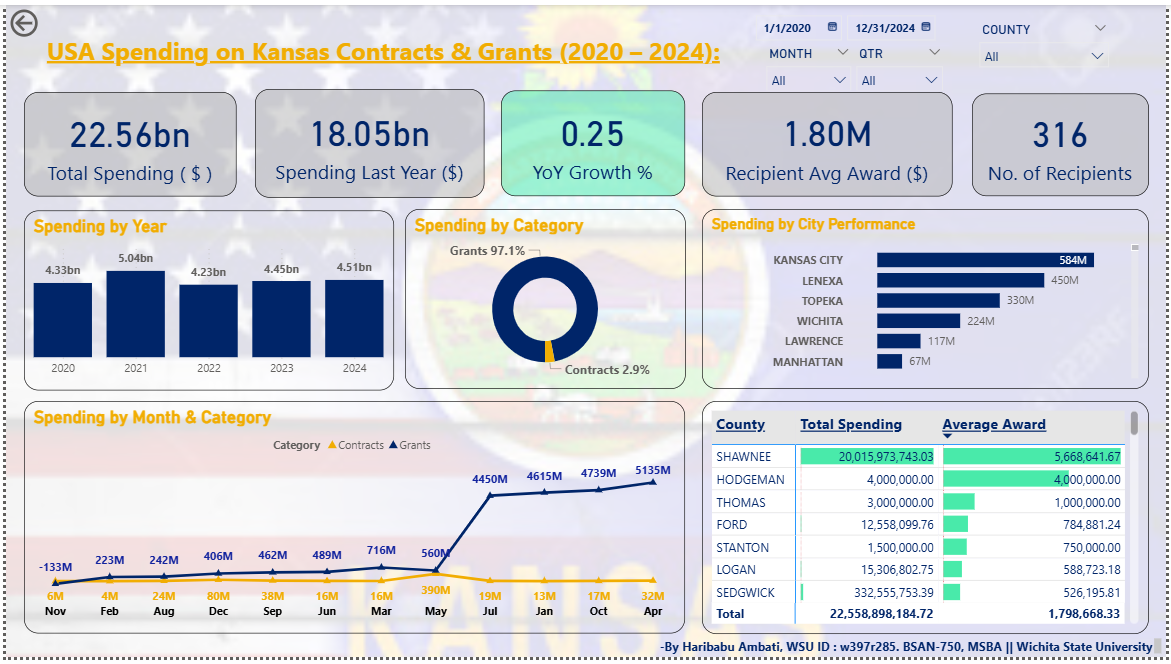

What the dashboard file says about the page in this screenshot:
{"tool":"powerbi","page":{"name":"HHS_Spending","canvas":[1280,720],"ordinal":0},"visuals":[{"type":"actionButton","box":[0,0,100,40],"z":0},{"type":"clusteredColumnChart","title":"Spending by Year","fields":{"Y":["_Measures.Total Spending"],"Category":["Calendar.Year"]},"box":[20,226.7,408.3,198.3],"z":1000},{"type":"clusteredBarChart","title":"Spending by City Performance","fields":{"Y":["_Measures.Total Spending"],"Category":["USAspending_HHS_Kansas.primary_place_of_performance_city_name"]},"box":[769.1,224.9,493.2,198.4],"z":2000},{"type":"card","fields":{"Values":["_Measures.Total Spending"]},"box":[19.2,96.7,234.5,115.4],"z":3000},{"type":"donutChart","title":"Spending by Category","fields":{"Y":["_Measures.Total Spending"],"Category":["USAspending_HHS_Kansas.Category"]},"box":[440,225,310,198.3],"z":4000},{"type":"slicer","fields":{"Values":["Calendar.Date"]},"box":[814.5,1.9,230.6,54.8],"z":5000},{"type":"card","fields":{"Values":["_Measures.Avg Award"]},"box":[768.3,96.7,276.7,115],"z":6000},{"type":"slicer","fields":{"Values":["Calendar.Quarter"]},"box":[929.8,39.7,115.3,54.8],"z":7000},{"type":"lineChart","title":"Spending by Month & Category","fields":{"Y":["_Measures.Total Spending"],"Series":["USAspending_HHS_Kansas.Category"],"Category":["Calendar.Year","Calendar.Month","Calendar.Day"]},"box":[20,436.7,730,256.7],"z":8000},{"type":"textbox","box":[0,26.5,833.4,68],"z":9000},{"type":"slicer","fields":{"Values":["USAspending_HHS_Kansas.recipient_county_name"]},"box":[1065.8,13.2,162.5,83.2],"z":10000},{"type":"card","fields":{"Values":["_Measures.YoY Growth %"]},"box":[546.7,95,203.3,116.7],"z":11000},{"type":"slicer","fields":{"Values":["Calendar.Month"]},"box":[829.6,39.7,113.4,54.8],"z":12000},{"type":"pivotTable","fields":{"Rows":["USAspending_HHS_Kansas.recipient_county_name"],"Values":["_Measures.Total Spending","_Measures.Avg Award"]},"box":[769.1,436.5,493.2,257],"z":13000},{"type":"card","fields":{"Values":["_Measures.Distinct Recipients"]},"box":[1066.7,98.3,195,113.3],"z":14000},{"type":"textbox","box":[716.7,693.3,563.3,26.7],"z":15000},{"type":"card","fields":{"Values":["_Measures.Total Spending Last Year"]},"box":[275.6,92.2,253.3,120],"z":16000}]}

Visuals, with their boxes in screenshot pixels (x1, y1, x2, y2), scaled from the page's 1280x720 canvas onto the 1171x664 screenshot:
actionButton: crop(0, 0, 91, 37)
"Spending by Year" clusteredColumnChart: crop(18, 209, 392, 392)
"Spending by City Performance" clusteredBarChart: crop(704, 207, 1155, 390)
card - _Measures.Total Spending: crop(18, 89, 232, 196)
"Spending by Category" donutChart: crop(403, 208, 686, 390)
slicer - Calendar.Date: crop(745, 2, 956, 52)
card - _Measures.Avg Award: crop(703, 89, 956, 195)
slicer - Calendar.Quarter: crop(851, 37, 956, 87)
"Spending by Month & Category" lineChart: crop(18, 403, 686, 639)
textbox: crop(0, 24, 762, 87)
slicer - USAspending_HHS_Kansas.recipient_county_name: crop(975, 12, 1124, 89)
card - _Measures.YoY Growth %: crop(500, 88, 686, 195)
slicer - Calendar.Month: crop(759, 37, 863, 87)
pivotTable - USAspending_HHS_Kansas.recipient_county_name x _Measures.Total Spending: crop(704, 403, 1155, 640)
card - _Measures.Distinct Recipients: crop(976, 91, 1154, 195)
textbox: crop(656, 639, 1170, 663)
card - _Measures.Total Spending Last Year: crop(252, 85, 484, 196)
